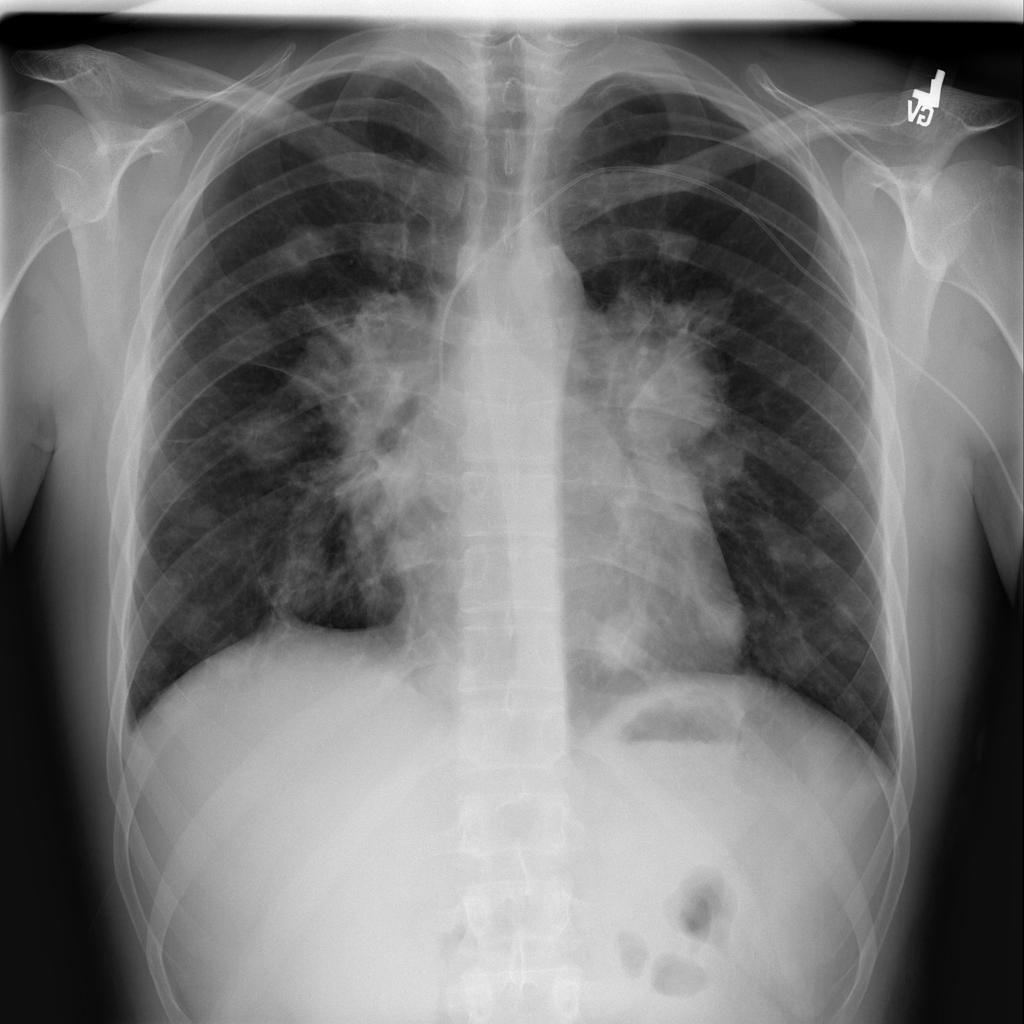nodule: (252, 527, 350, 633), (225, 399, 317, 479), (259, 209, 345, 288), (587, 597, 662, 682), (201, 298, 283, 375), (669, 270, 748, 343), (685, 582, 760, 656), (760, 611, 831, 688), (159, 594, 232, 664), (160, 487, 236, 554), (799, 468, 870, 538), (641, 210, 715, 277), (760, 521, 834, 585), (823, 595, 874, 648), (131, 636, 184, 686), (798, 535, 849, 585)
